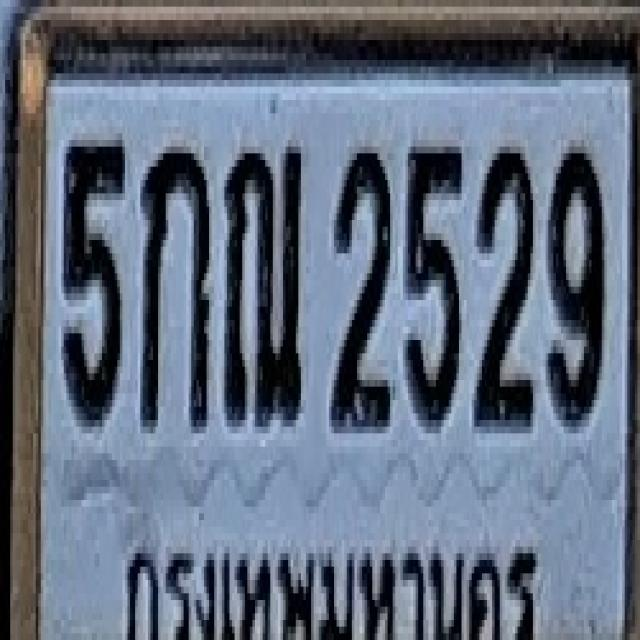2: (329, 140, 390, 427), (474, 137, 533, 423)
5: (63, 133, 124, 420), (406, 137, 462, 423)
9: (547, 144, 603, 424)
A01: (140, 137, 209, 423)
A19: (223, 137, 302, 423)
BKK: (115, 527, 548, 640)
